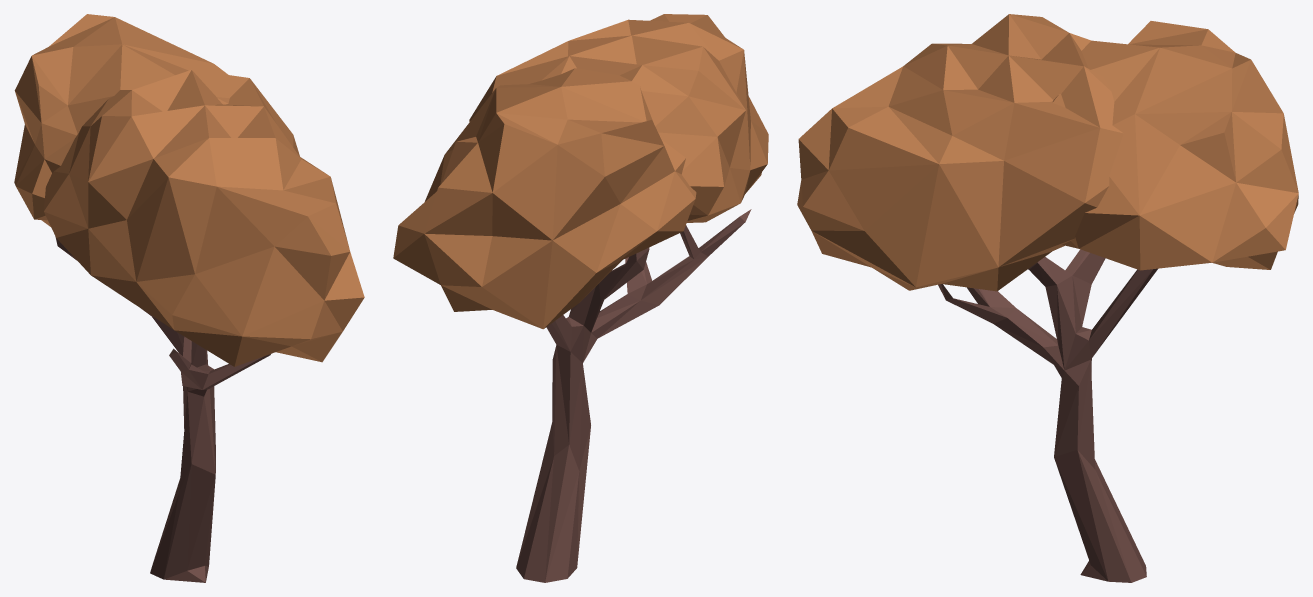
The model's file is CommonTree_Autumn_5.lod2.glb.
3 renders of one model, left to right at view 1: azimuth 30°, elevation 25°; view 2: azimuth 150°, elevation 25°; view 3: azimuth 270°, elevation 25°, orthographic. The views are drawn at different scales.
Visible parts, largest first — view 1: CommonTree_Autumn_5; view 2: CommonTree_Autumn_5; view 3: CommonTree_Autumn_5.
Part boxes in pixels (bbox=[...]): CommonTree_Autumn_5: bbox=[14, 14, 364, 582]; CommonTree_Autumn_5: bbox=[393, 14, 768, 582]; CommonTree_Autumn_5: bbox=[797, 14, 1298, 582].
Bounding box in the file's own units: 1.29 × 2.52 × 2.25.
